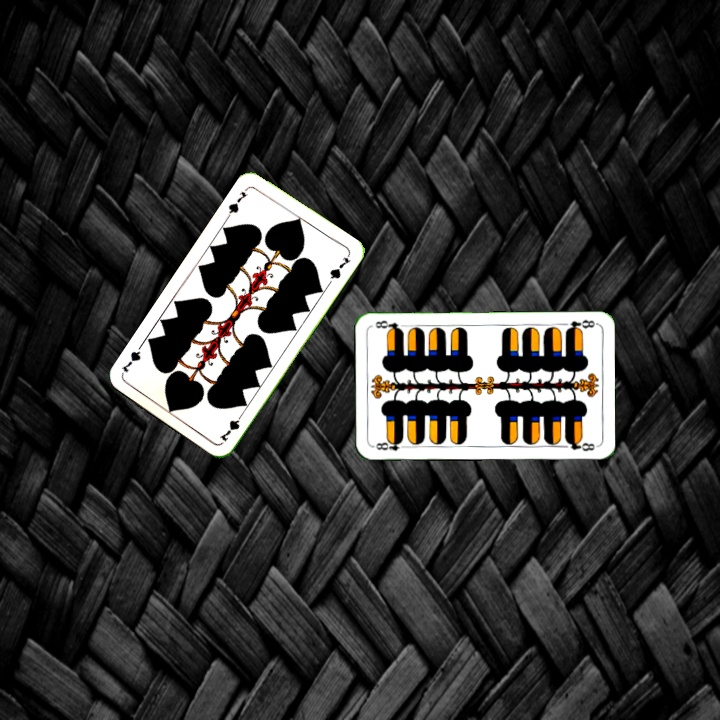E8: (370, 436, 410, 453), (562, 316, 598, 334)
G7: (216, 408, 247, 444), (223, 187, 250, 220)
